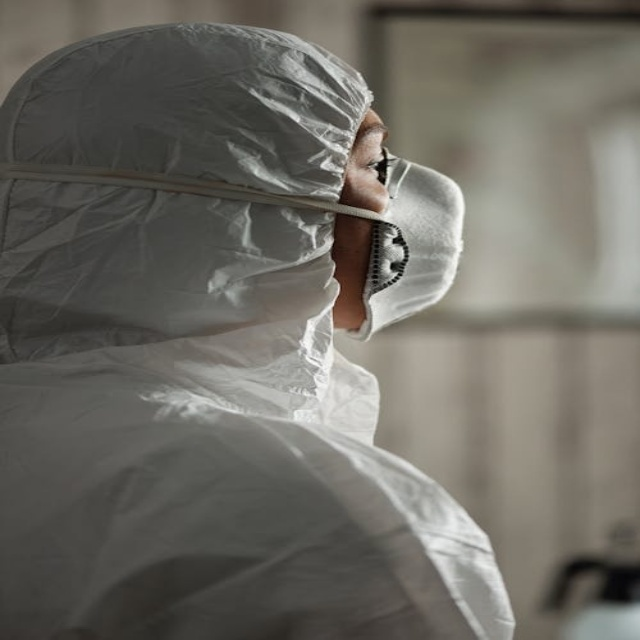Mascara: (342, 139, 467, 344)
Sin_gafas: (342, 106, 394, 178)
